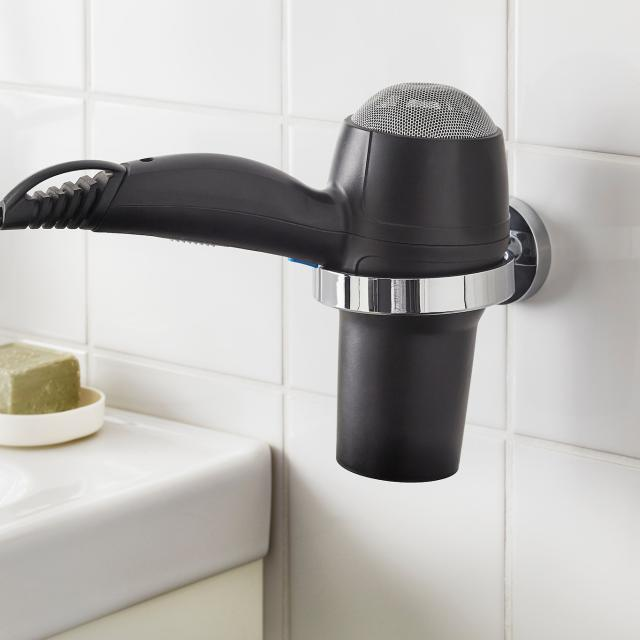dryer: (0, 47, 532, 497)
